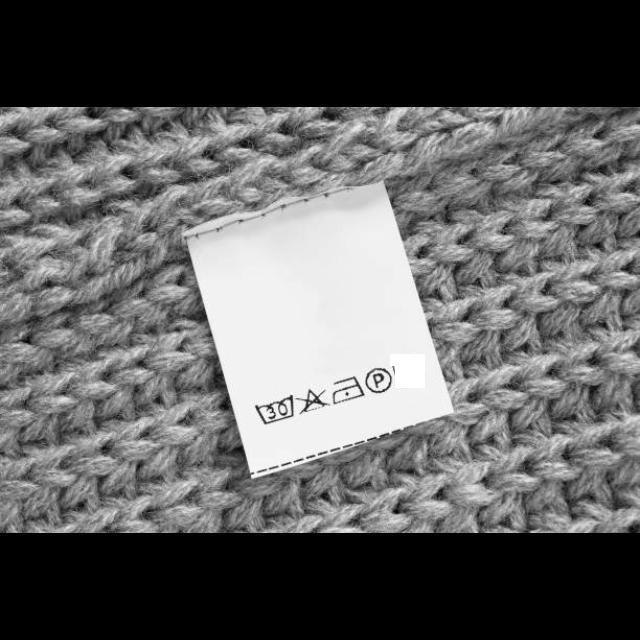30C: (252, 394, 298, 426)
DN_bleach: (294, 388, 332, 417)
iron_low: (332, 374, 366, 406)
normal_dry_clean_solvents: (364, 366, 394, 396)
